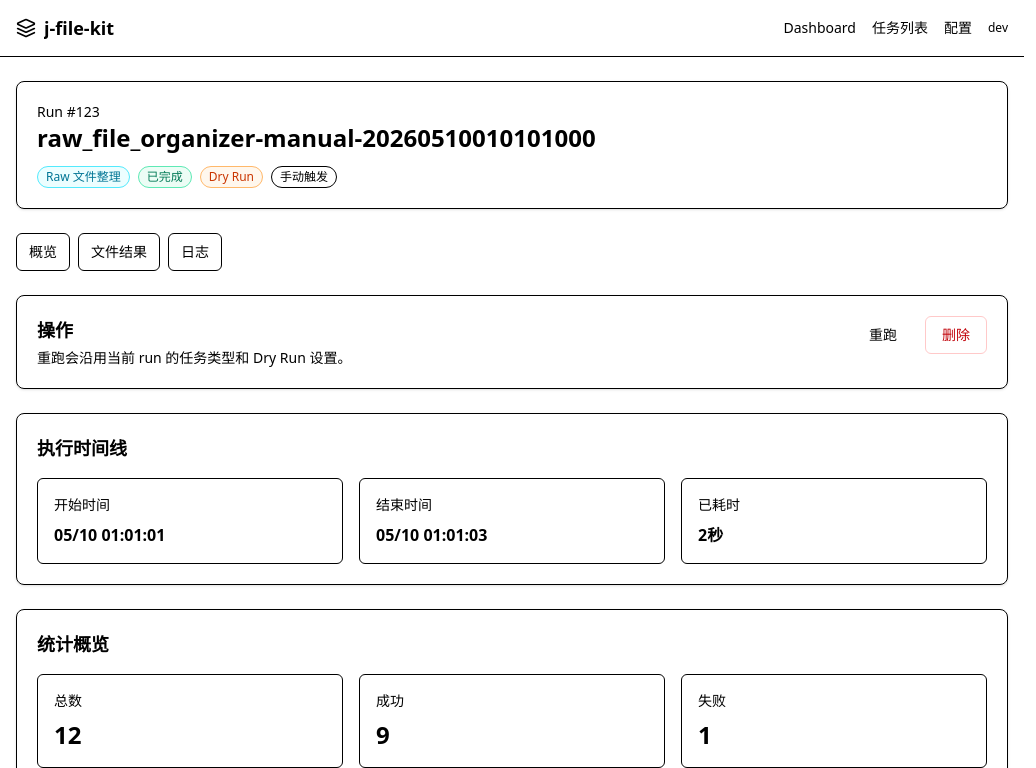
Test: Task detail page › resets file result filters and clears URL params
Click the tab "文件结果". click: (119, 252)
box: [78, 233, 160, 271]
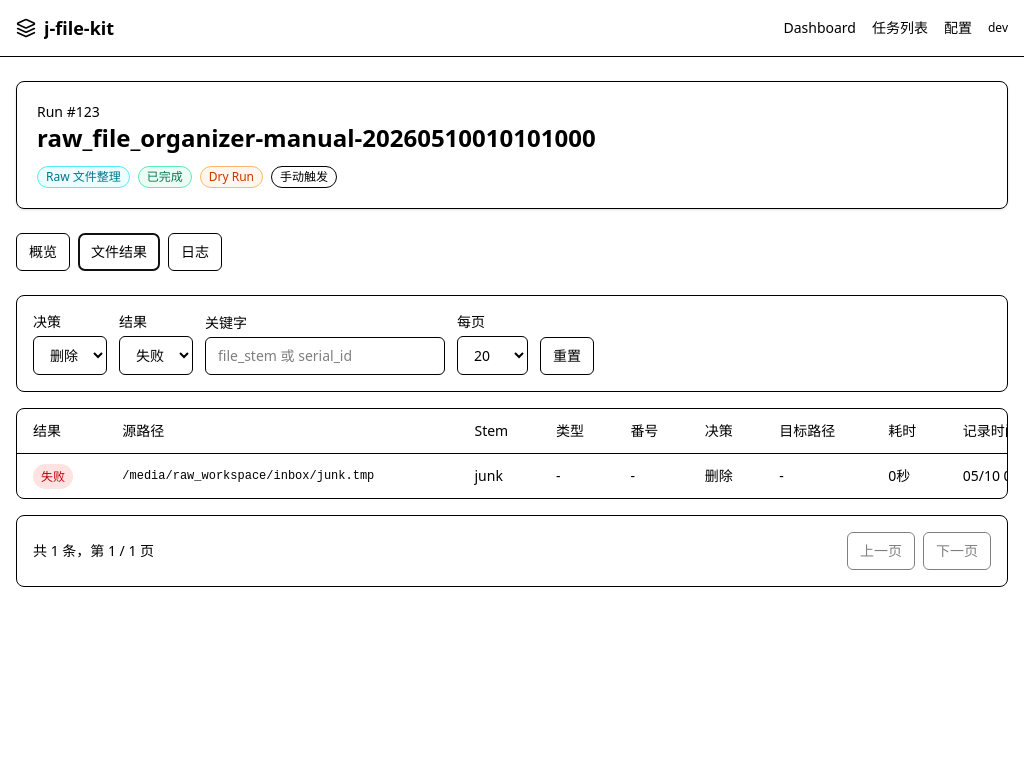
Check: the text "junk" is shown, box [474, 466, 503, 485]
Click the button "重置". click: (567, 356)
box: [540, 337, 594, 375]
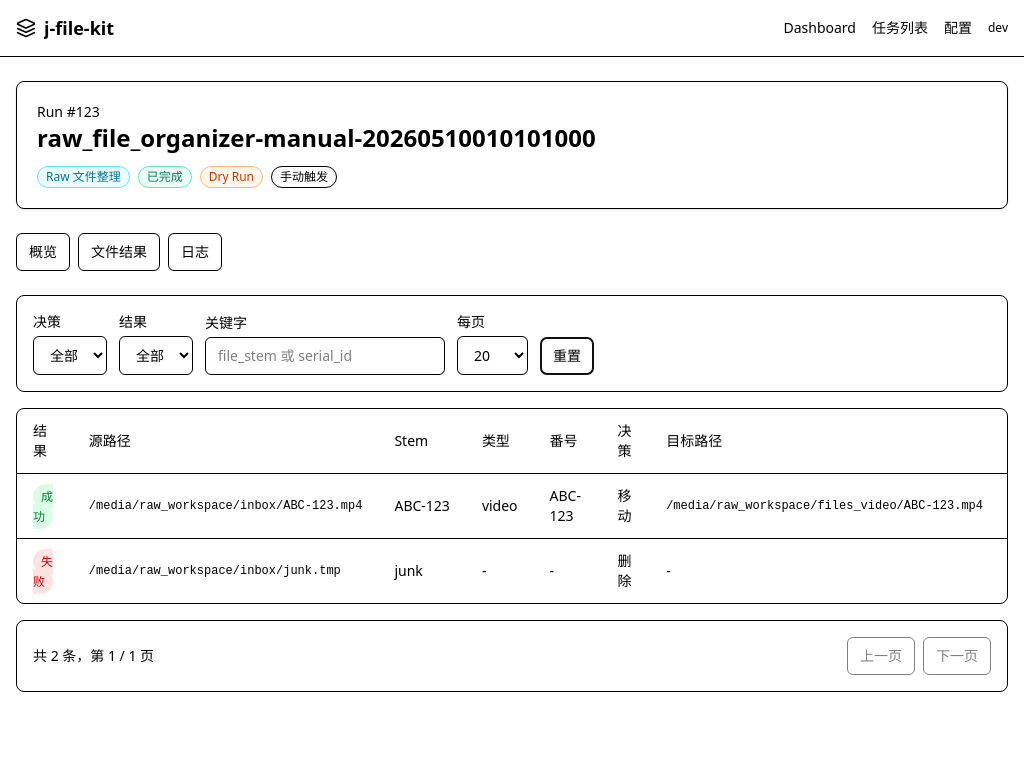
Check: the text "ABC-123" is shown, box [394, 496, 450, 516]
